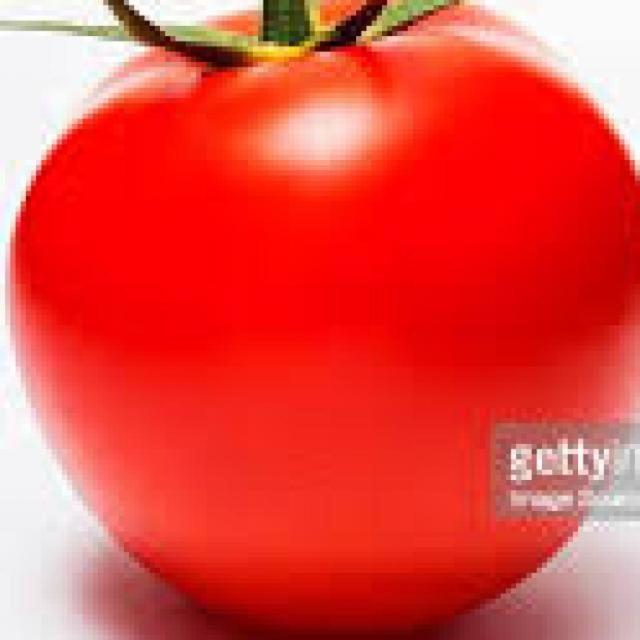Healthy Fruit: (15, 6, 427, 418)
